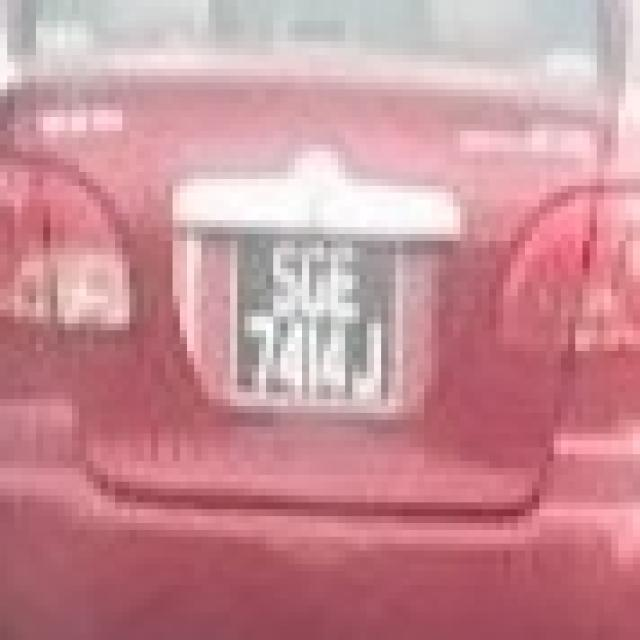1: (306, 322, 319, 399)
4: (276, 317, 309, 404), (318, 322, 352, 403)
7: (244, 313, 276, 394)
E: (329, 238, 362, 320)
G: (301, 238, 327, 316)
J: (356, 323, 385, 398)
S: (268, 237, 301, 319)
